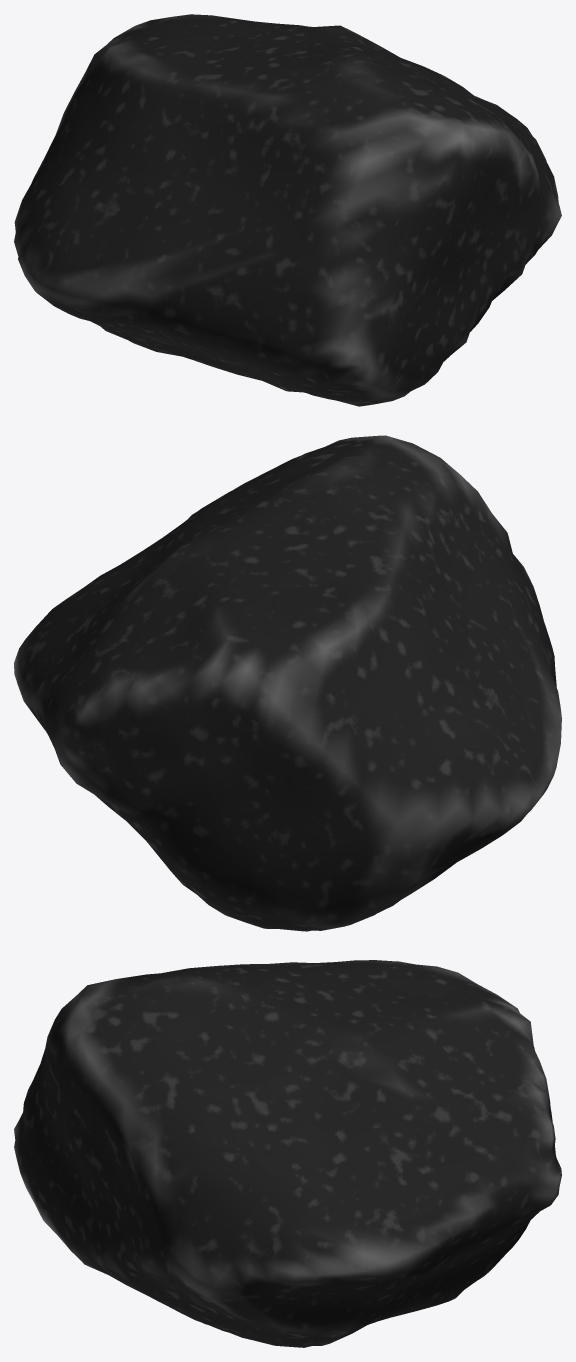
Rendered from lunar_rock4.glb.
3 views of the same model, one above another, from view 1: azimuth 30°, elevation 25°; view 2: azimuth 150°, elevation 25°; view 3: azimuth 270°, elevation 25° (orthographic). The views are drawn at different scales.
Parts seen in each view (by area): view 1: lunar_rock_4; view 2: lunar_rock_4; view 3: lunar_rock_4.
Part boxes in pixels (x1=…): lunar_rock_4: x1=14, y1=14, x2=561, y2=406; lunar_rock_4: x1=14, y1=435, x2=561, y2=931; lunar_rock_4: x1=14, y1=960, x2=561, y2=1347.
Bounding box in the file's own units: 0.1632 × 0.112 × 0.1594.
Materials: 1 (1 with a texture image).
